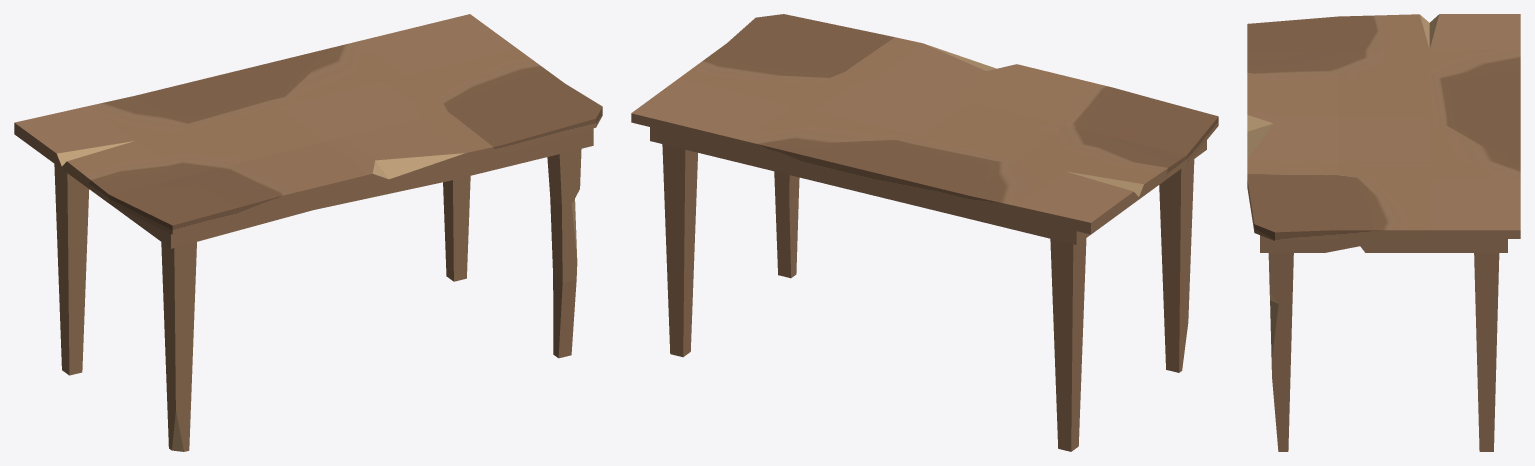
The model's file is SM_Table.fbx.
The picture shows the model from 3 angles, left to right: view 1: azimuth 30°, elevation 25°; view 2: azimuth 150°, elevation 25°; view 3: azimuth 270°, elevation 25°; orthographic projection. The views are drawn at different scales.
Visible parts, largest first — view 1: SM_Table; view 2: SM_Table; view 3: SM_Table.
Boxes of the visible parts, bbox=[...] form: SM_Table: bbox=[14, 14, 602, 451]; SM_Table: bbox=[631, 14, 1218, 451]; SM_Table: bbox=[1247, 14, 1520, 451].
Size of the model in its own units: 206 by 105 by 110.
